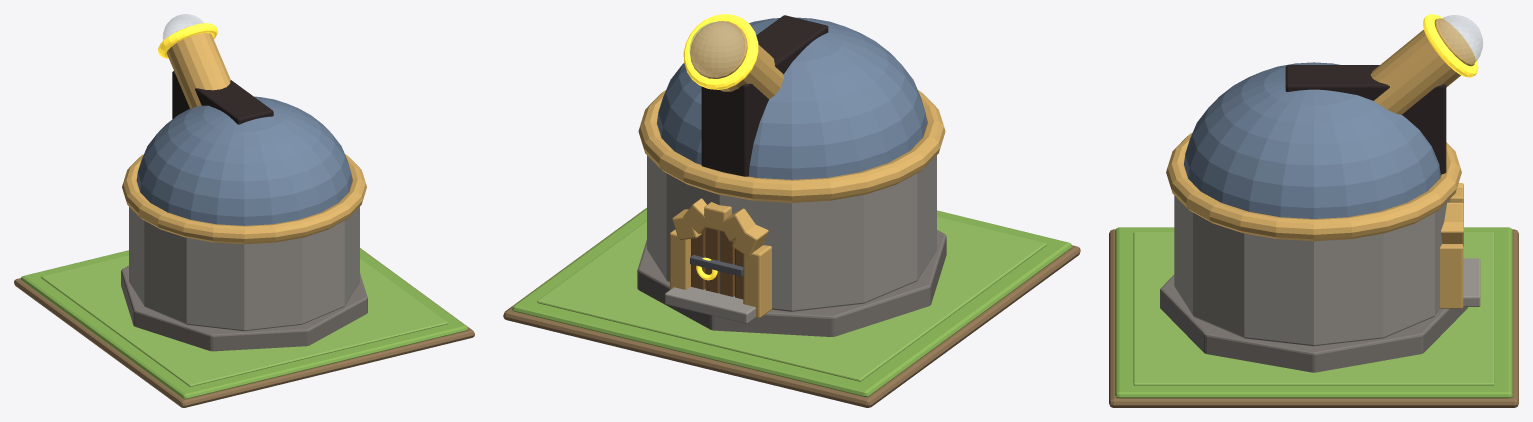
Rendered from star_laboratory_lv1.glb.
3 views of the same model, side by side, from view 1: azimuth 30°, elevation 25°; view 2: azimuth 150°, elevation 25°; view 3: azimuth 270°, elevation 25° (orthographic). The views are drawn at different scales.
Visible parts, largest first — view 1: SL_ObservatoryDome, SL_Drum, Base_Inner, Base_Grass, SL_Plinth, SL_DomeTrack, Base_Dirt, TelescopeTubeMain, SL_DomeSlitArch, TelescopeCollar, TelescopeLens; view 2: SL_ObservatoryDome, SL_Drum, Base_Inner, Base_Grass, SL_DomeTrack, SL_Plinth, SL_DomeSlitArch, Base_Dirt, TelescopeTubeMain, TelescopeLens, DoorStep, TelescopeCollar (+10 smaller); view 3: SL_Drum, SL_ObservatoryDome, Base_Inner, Base_Grass, SL_Plinth, SL_DomeTrack, Base_Dirt, TelescopeTubeMain, SL_DomeSlitArch, DoorPillar_1, TelescopeLens, TelescopeCollar (+3 smaller).
Part boxes in pixels (bbox=[...]): SL_ObservatoryDome: bbox=[136, 96, 352, 225]; SL_Drum: bbox=[129, 207, 359, 331]; Base_Inner: bbox=[41, 255, 447, 386]; Base_Grass: bbox=[21, 248, 467, 399]; SL_Plinth: bbox=[121, 265, 367, 351]; SL_DomeTrack: bbox=[122, 154, 366, 244]; Base_Dirt: bbox=[14, 248, 474, 407]; TelescopeTubeMain: bbox=[166, 27, 230, 108]; SL_DomeSlitArch: bbox=[172, 71, 273, 124]; TelescopeCollar: bbox=[158, 23, 217, 58]; TelescopeLens: bbox=[162, 14, 203, 40]; SL_ObservatoryDome: bbox=[657, 17, 926, 179]; SL_Drum: bbox=[647, 155, 936, 311]; Base_Inner: bbox=[537, 216, 1046, 381]; Base_Grass: bbox=[512, 208, 1071, 396]; SL_DomeTrack: bbox=[638, 90, 945, 202]; SL_Plinth: bbox=[637, 230, 946, 336]; SL_DomeSlitArch: bbox=[701, 15, 828, 176]; Base_Dirt: bbox=[503, 208, 1080, 407]; TelescopeTubeMain: bbox=[690, 21, 783, 99]; TelescopeLens: bbox=[689, 21, 744, 77]; DoorStep: bbox=[665, 287, 755, 323]; TelescopeCollar: bbox=[683, 14, 758, 89]; SL_Drum: bbox=[1174, 195, 1450, 346]; SL_ObservatoryDome: bbox=[1184, 62, 1440, 218]; Base_Inner: bbox=[1133, 232, 1494, 385]; Base_Grass: bbox=[1115, 227, 1512, 398]; SL_Plinth: bbox=[1160, 275, 1467, 372]; SL_DomeTrack: bbox=[1166, 132, 1461, 241]; Base_Dirt: bbox=[1109, 229, 1518, 407]; TelescopeTubeMain: bbox=[1370, 18, 1475, 114]; SL_DomeSlitArch: bbox=[1285, 65, 1446, 174]; DoorPillar_1: bbox=[1439, 244, 1463, 308]; TelescopeLens: bbox=[1438, 15, 1483, 63]; TelescopeCollar: bbox=[1423, 14, 1478, 77].
Size of the model in its own units: 2.76 by 2.27 by 2.76.
